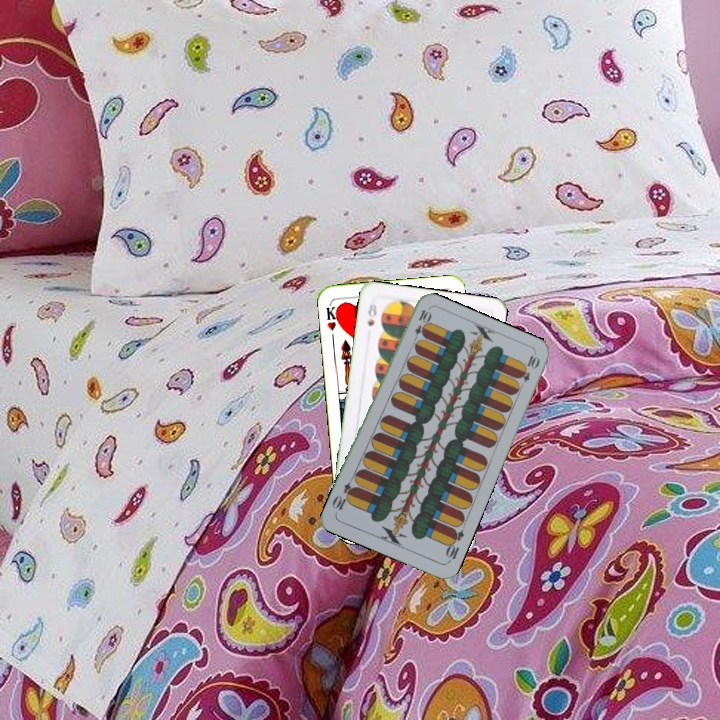E10: (441, 525, 467, 565), (409, 306, 432, 346)
HK: (322, 300, 342, 333)
S8: (364, 298, 379, 329)
